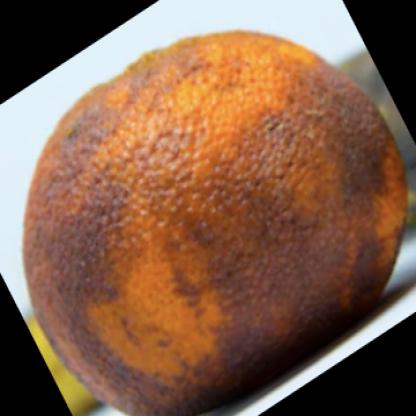rotten: (24, 32, 405, 416)
